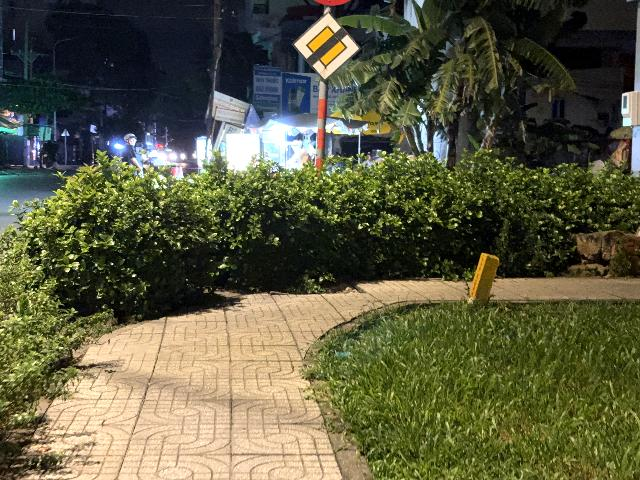het-duong-uu-tien: (292, 11, 362, 83)
